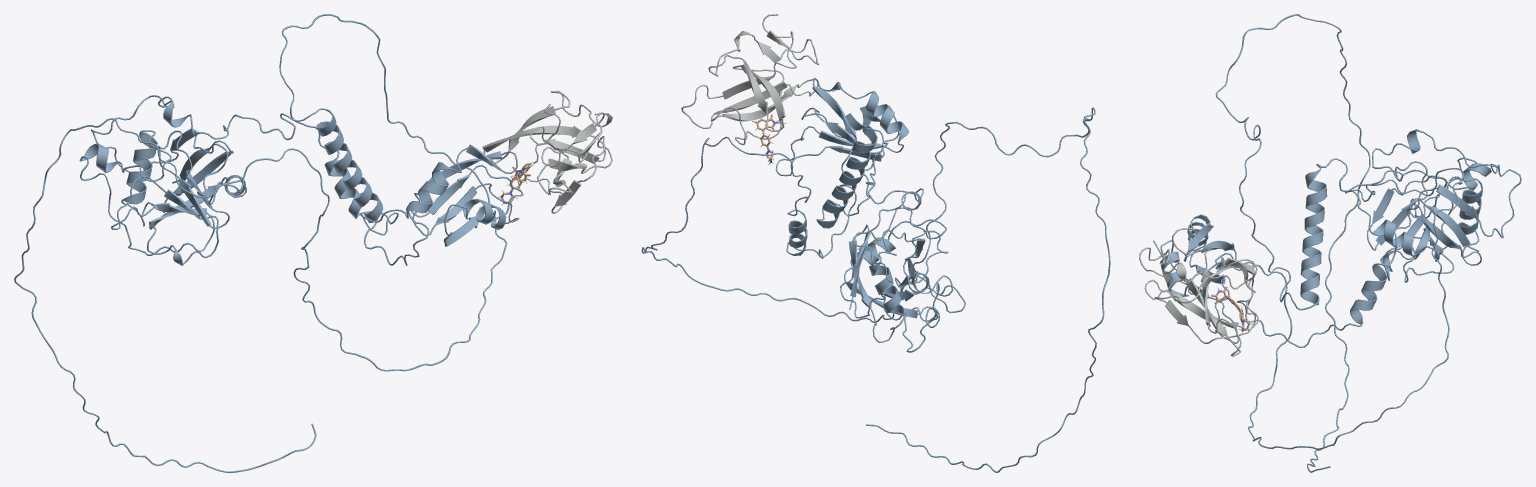
3 views of the same model, side by side, from view 1: azimuth 30°, elevation 25°; view 2: azimuth 150°, elevation 25°; view 3: azimuth 270°, elevation 25° (orthographic). The views are drawn at different scales.
Parts seen in each view (by area): view 1: node-geom95, node-geom96; view 2: node-geom95, node-geom96; view 3: node-geom95, node-geom96.
Boxes of the visible parts, bbox=[...] form: node-geom95: bbox=[79, 90, 612, 265]; node-geom96: bbox=[14, 14, 523, 472]; node-geom95: bbox=[681, 14, 965, 352]; node-geom96: bbox=[641, 77, 1110, 472]; node-geom95: bbox=[1139, 129, 1521, 356]; node-geom96: bbox=[1160, 14, 1464, 472].
Size of the model in its own units: 143 by 103 by 95.12.
